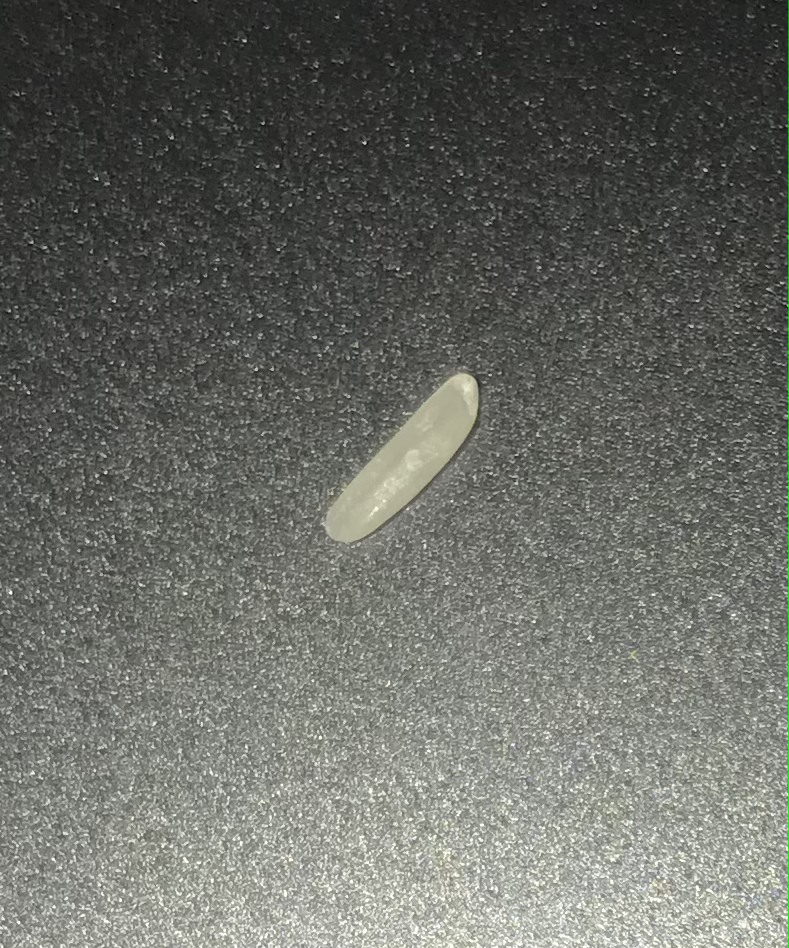Gao Long Lai: (314, 369, 493, 548)
